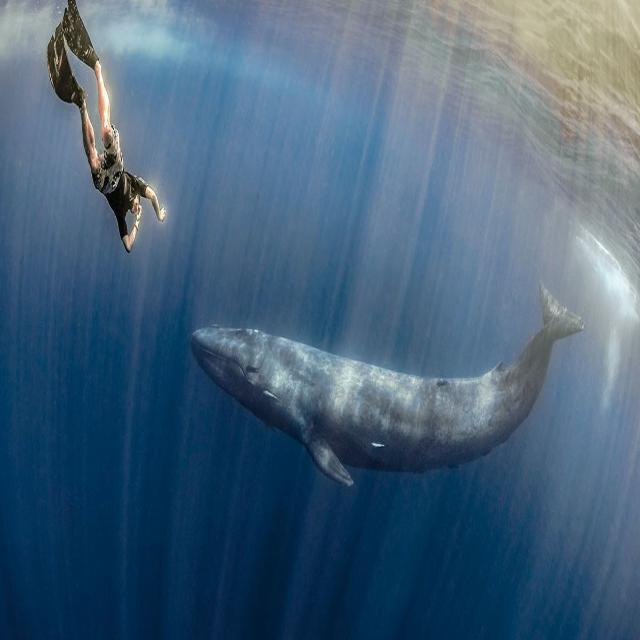blue_whale: (175, 267, 632, 512)
